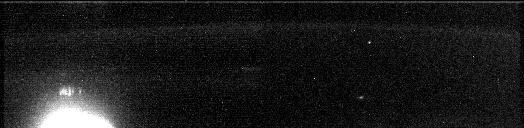positive: (57, 85, 83, 104)
